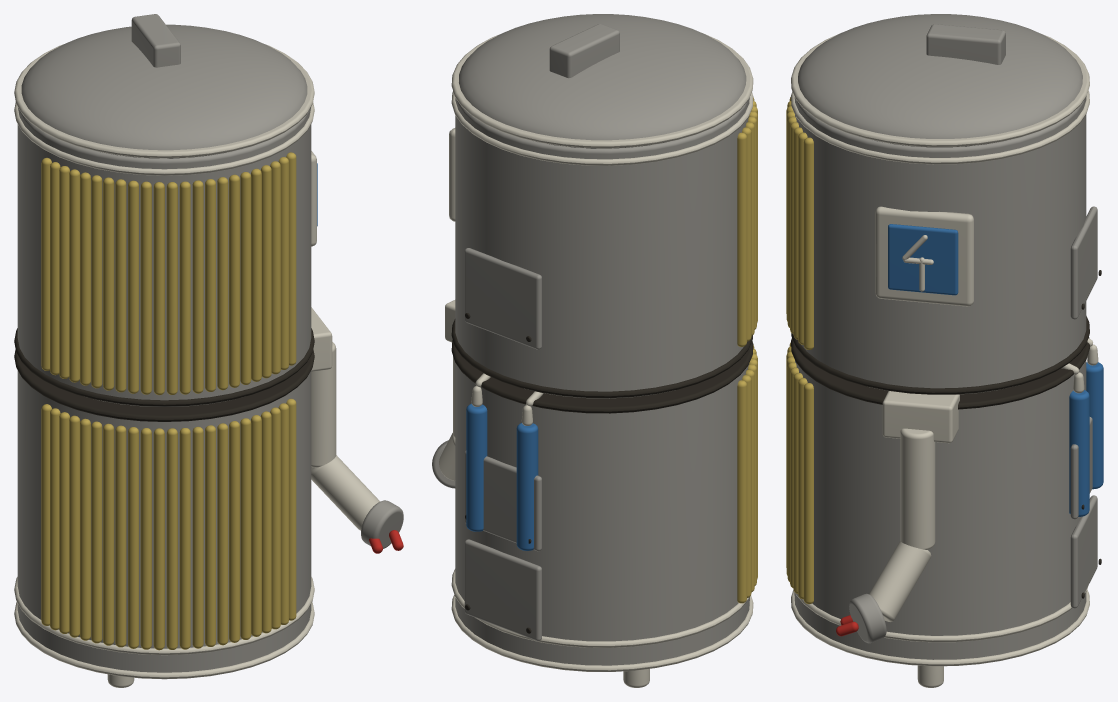
Rendered from hi-energy-power-stores.glb.
The picture shows the model from 3 angles, left to right: view 1: azimuth 30°, elevation 25°; view 2: azimuth 150°, elevation 25°; view 3: azimuth 270°, elevation 25°; orthographic projection.
Visible parts, largest first — view 1: Convex power-store top, Lower cylindrical power chamber, Upper cylindrical power chamber, Used collar and recessed seam.002, Used collar and recessed seam.005, Long vertical brass cooling rib.007, Long vertical brass cooling rib.006, Long vertical brass cooling rib.010, Long vertical brass cooling rib.013, Long vertical brass cooling rib.015, Long vertical brass cooling rib.005, Long vertical brass cooling rib.011 (+48 smaller); view 2: Upper cylindrical power chamber, Lower cylindrical power chamber, Convex power-store top, Worn rear access panel, Worn rear access panel.002, Used collar and recessed seam.002, Used collar and recessed seam.005, Worn rear access panel.001, Twin blue emergency cooling cylinder, Top service handle, Twin blue emergency cooling cylinder.001, Used collar and recessed seam (+13 smaller); view 3: Upper cylindrical power chamber, Lower cylindrical power chamber, Convex power-store top, Inset status display frame, Deep navy status glass, Probe input descending arm, Used collar and recessed seam.002, Used collar and recessed seam.005, Probe input upper mounting, Top service handle, Probe input lower angled arm, Long vertical brass cooling rib.022 (+20 smaller).
Part boxes in pixels (left/top/right/bottom): Convex power-store top: left=21, top=24, right=307, bottom=158; Lower cylindrical power chamber: left=17, top=370, right=311, bottom=672; Upper cylindrical power chamber: left=17, top=107, right=311, bottom=406; Used collar and recessed seam.002: left=14, top=350, right=314, bottom=421; Used collar and recessed seam.005: left=14, top=44, right=314, bottom=158; Long vertical brass cooling rib.007: left=115, top=425, right=126, bottom=647; Long vertical brass cooling rib.006: left=103, top=423, right=114, bottom=645; Long vertical brass cooling rib.010: left=153, top=428, right=164, bottom=650; Long vertical brass cooling rib.013: left=192, top=426, right=203, bottom=648; Long vertical brass cooling rib.015: left=217, top=423, right=228, bottom=645; Long vertical brass cooling rib.005: left=91, top=421, right=102, bottom=643; Long vertical brass cooling rib.011: left=166, top=428, right=177, bottom=649; Upper cylindrical power chamber: left=455, top=97, right=749, bottom=398; Lower cylindrical power chamber: left=455, top=363, right=749, bottom=665; Convex power-store top: left=459, top=14, right=746, bottom=148; Worn rear access panel: left=464, top=539, right=541, bottom=640; Worn rear access panel.002: left=464, top=248, right=541, bottom=349; Used collar and recessed seam.002: left=451, top=340, right=753, bottom=413; Used collar and recessed seam.005: left=451, top=33, right=753, bottom=148; Worn rear access panel.001: left=464, top=450, right=541, bottom=551; Twin blue emergency cooling cylinder: left=516, top=423, right=538, bottom=550; Top service handle: left=549, top=24, right=619, bottom=78; Twin blue emergency cooling cylinder.001: left=466, top=403, right=487, bottom=531; Used collar and recessed seam: left=451, top=595, right=753, bottom=671; Upper cylindrical power chamber: left=794, top=97, right=1086, bottom=394; Lower cylindrical power chamber: left=794, top=360, right=1086, bottom=659; Convex power-store top: left=798, top=14, right=1082, bottom=147; Inset status display frame: left=875, top=206, right=973, bottom=306; Deep navy status glass: left=888, top=224, right=958, bottom=295; Probe input descending arm: left=900, top=428, right=935, bottom=549; Used collar and recessed seam.002: left=791, top=337, right=1089, bottom=409; Used collar and recessed seam.005: left=791, top=33, right=1089, bottom=146; Probe input upper mounting: left=882, top=391, right=959, bottom=443; Top service handle: left=926, top=24, right=1005, bottom=64; Probe input lower angled arm: left=869, top=541, right=931, bottom=621; Long vertical brass cooling rib.022: left=803, top=383, right=813, bottom=604.
Bounding box in the file's own units: 1.61 × 2.93 × 1.32.
